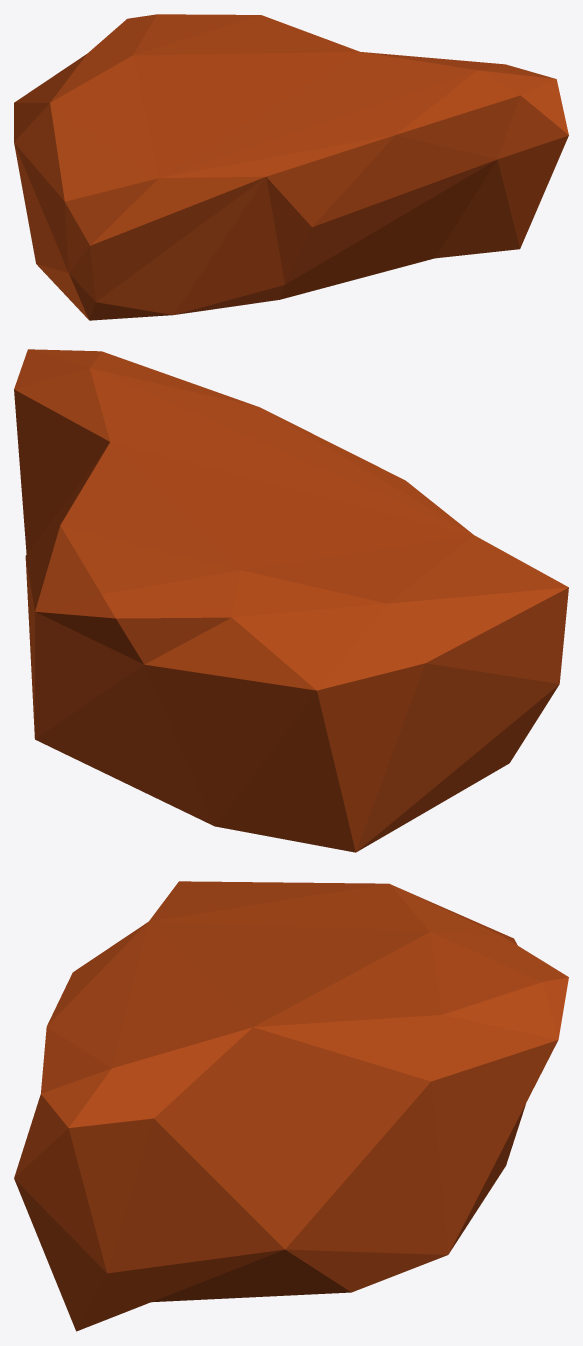
File: stone_small_6.fbx
3 renders of one model, top to bottom at view 1: azimuth 30°, elevation 25°; view 2: azimuth 150°, elevation 25°; view 3: azimuth 270°, elevation 25°, orthographic. The views are drawn at different scales.
Visible parts, largest first — view 1: Stone_desert_small_006; view 2: Stone_desert_small_006; view 3: Stone_desert_small_006.
Part boxes in pixels (x1=…): Stone_desert_small_006: x1=14, y1=14, x2=568, y2=320; Stone_desert_small_006: x1=14, y1=349, x2=568, y2=852; Stone_desert_small_006: x1=14, y1=881, x2=568, y2=1331.
Size of the model in its own units: 155 by 69.09 by 120.
1 material, 1 textured.
